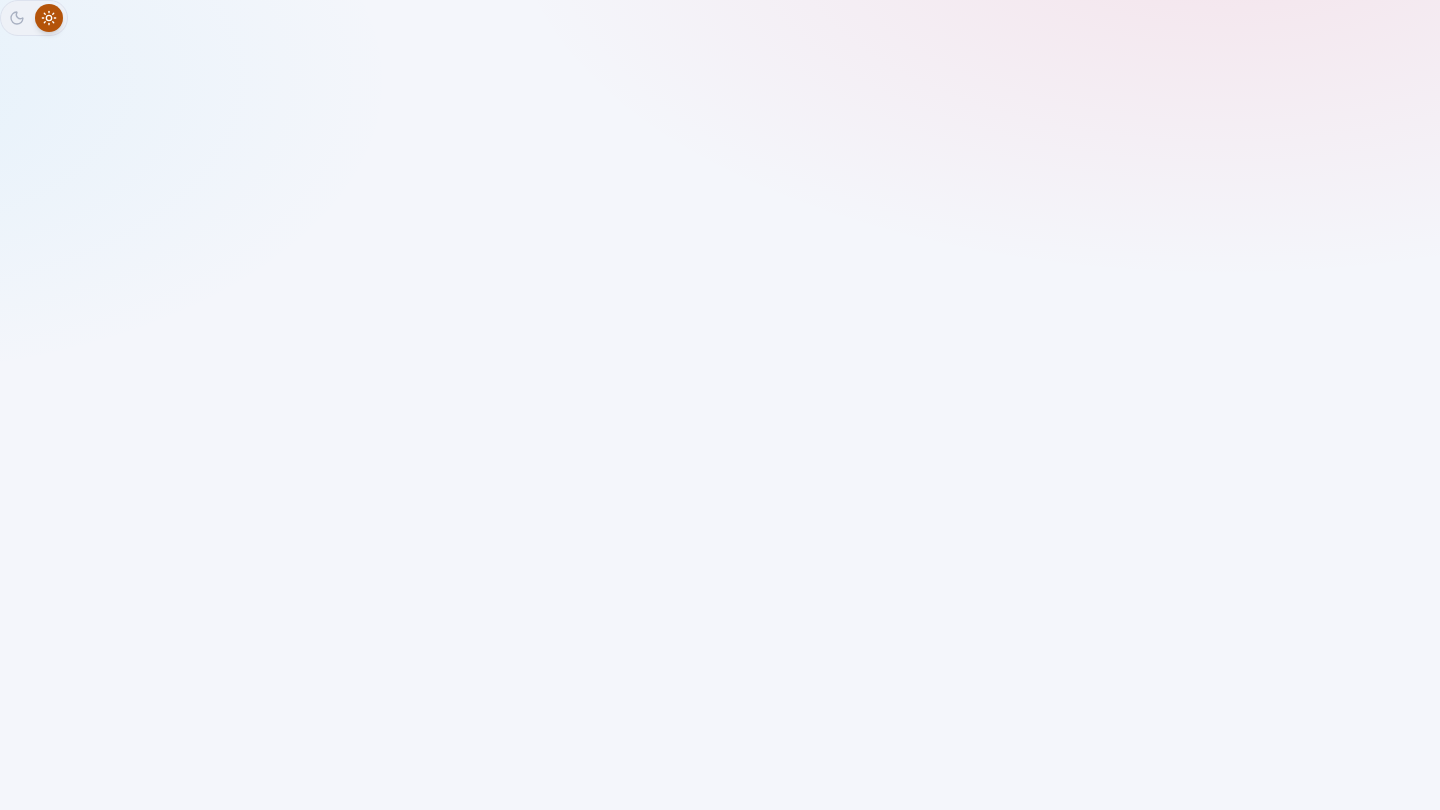
Test case: ThemeToggle › starts in light mode and switches to dark and back
Later steps or results of the test are not shown.
Click the switch: (34, 18) [0, 0, 68, 36]
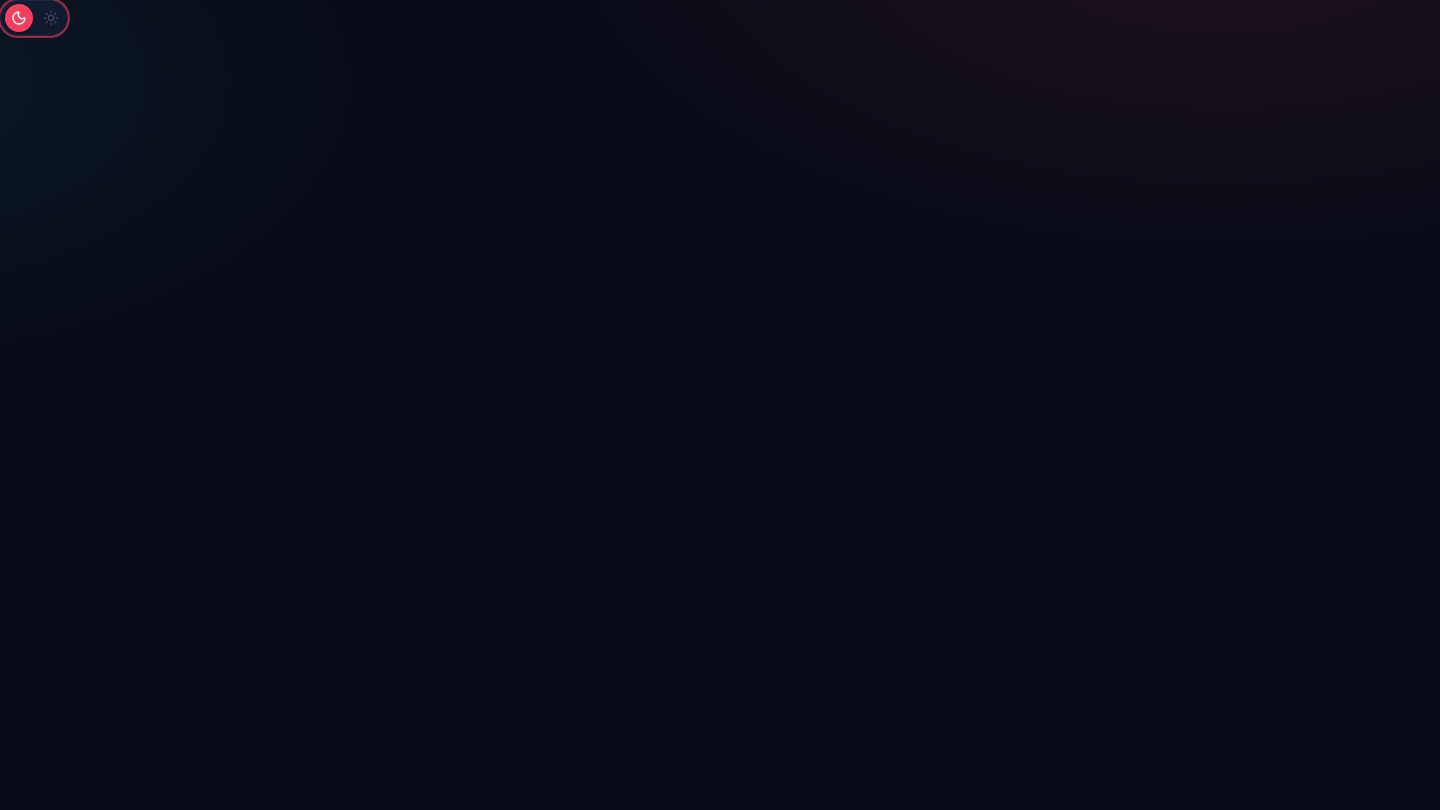
Expected: the switch is not checked, [0, 0, 68, 36]
